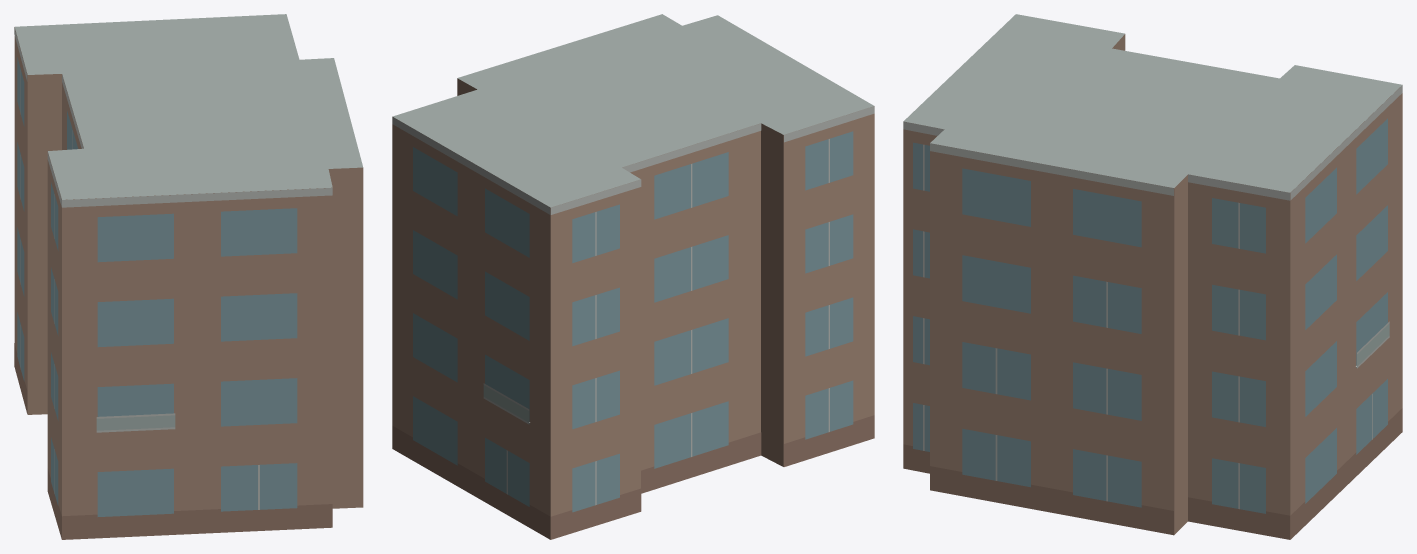
The model's file is survey-upis-32524332.glb.
3 views of the same model, side by side, from view 1: azimuth 30°, elevation 25°; view 2: azimuth 150°, elevation 25°; view 3: azimuth 270°, elevation 25° (orthographic). The views are drawn at different scales.
Visible parts, largest first — view 1: survey-upis-32524332.tmp; view 2: survey-upis-32524332.tmp; view 3: survey-upis-32524332.tmp.
Part boxes in pixels (left/top/right/bottom): survey-upis-32524332.tmp: left=14, top=14, right=363, bottom=539; survey-upis-32524332.tmp: left=392, top=14, right=874, bottom=539; survey-upis-32524332.tmp: left=903, top=14, right=1402, bottom=539.
Size of the model in its own units: 11.83 by 10.7 by 13.96.
